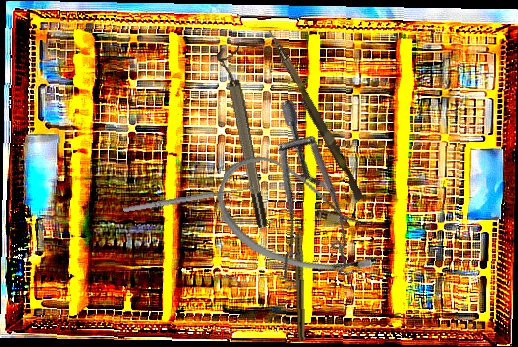Cannula: (204, 146, 397, 290)
Fixation Ring: (215, 45, 271, 230)
Handpiece: (293, 219, 308, 341)
Hook Surgical: (121, 178, 256, 215)
Pusher: (260, 27, 369, 202)
Speculum: (193, 95, 402, 315)
